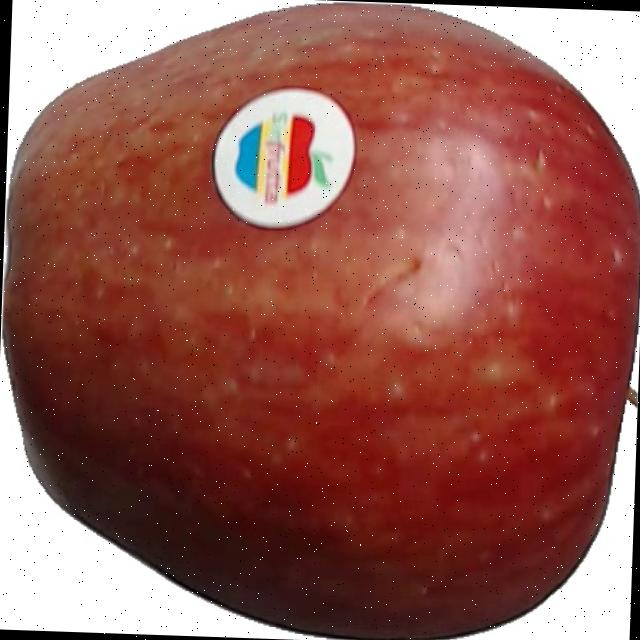apple: (0, 0, 638, 640)
